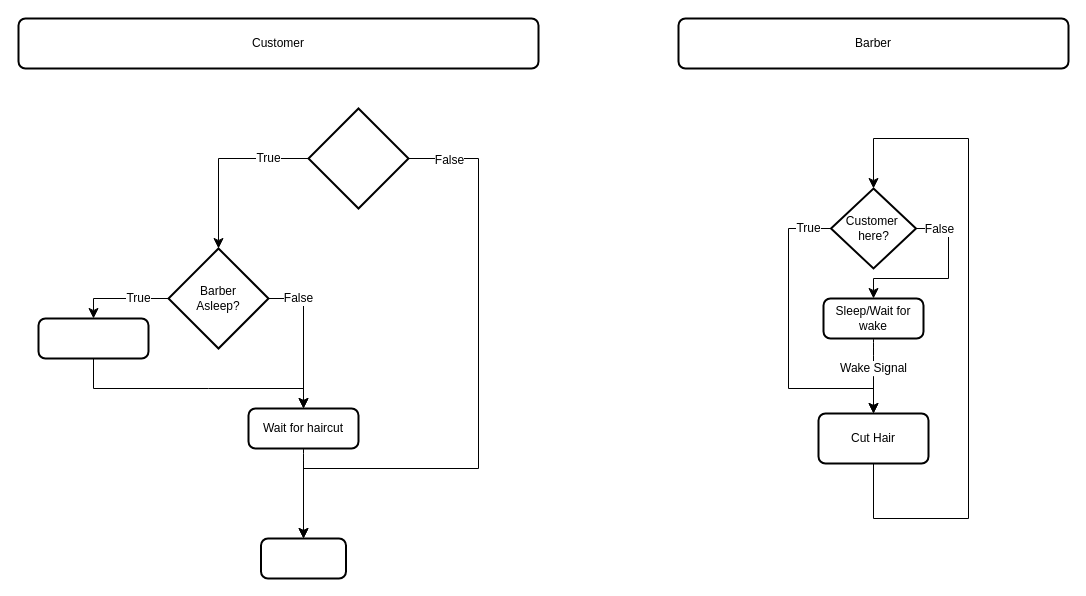
Some shapes in this 1086 by 596 pixel diagram are drawn without their labels. Here are the shapes that lost their labels. From the top down, the centre of each, then its label:
(358,158): Chair Available?
(93,338): Wake barber
(303,558): Leave
